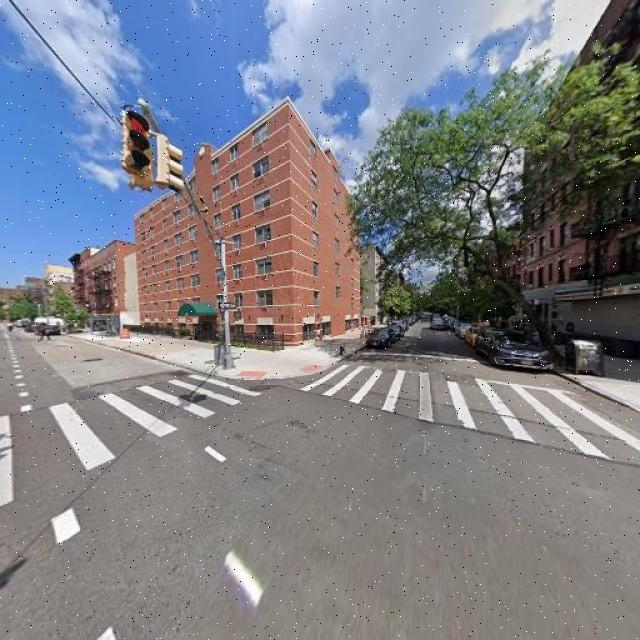Building: (140, 103, 360, 353), (523, 1, 640, 358)
